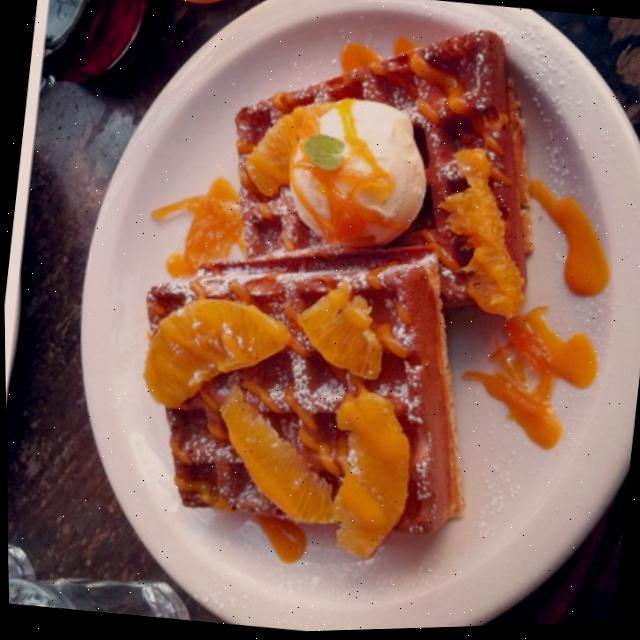炸货点心: (101, 0, 577, 578)
蛋糕甜品: (101, 0, 577, 578)
